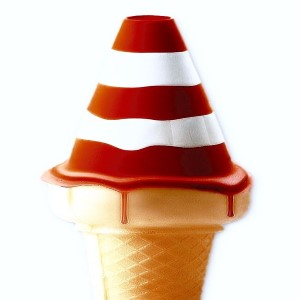traffic cone: (40, 14, 249, 191)
